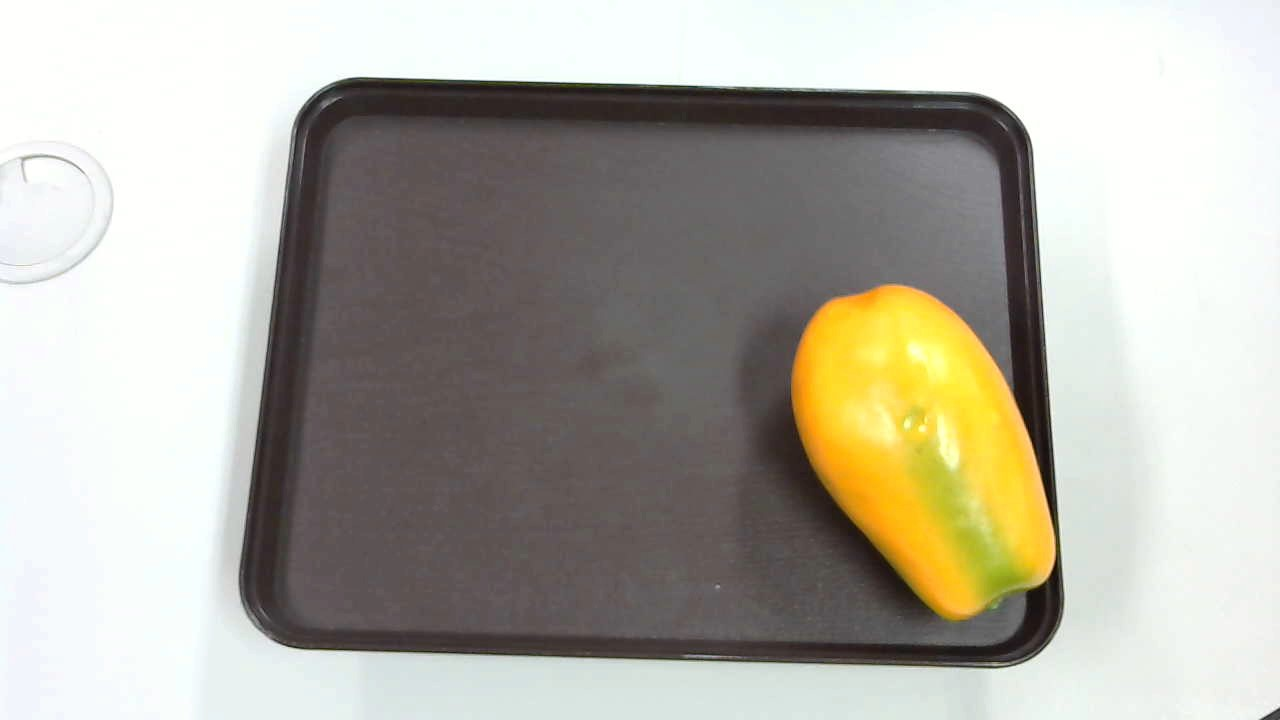papya: (791, 283, 1069, 620)
